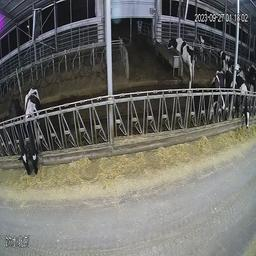cow: (23, 87, 43, 173), (8, 98, 29, 175), (168, 35, 197, 84), (209, 69, 228, 127), (227, 75, 241, 121), (220, 46, 236, 80), (239, 84, 249, 129)
